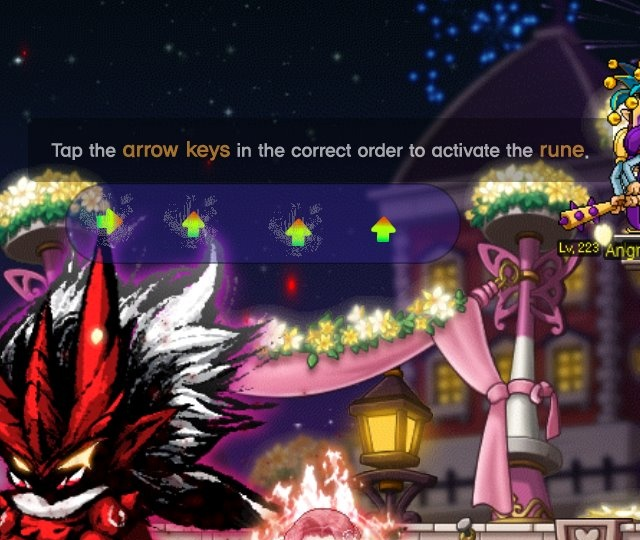rune_box: (57, 178, 472, 274)
